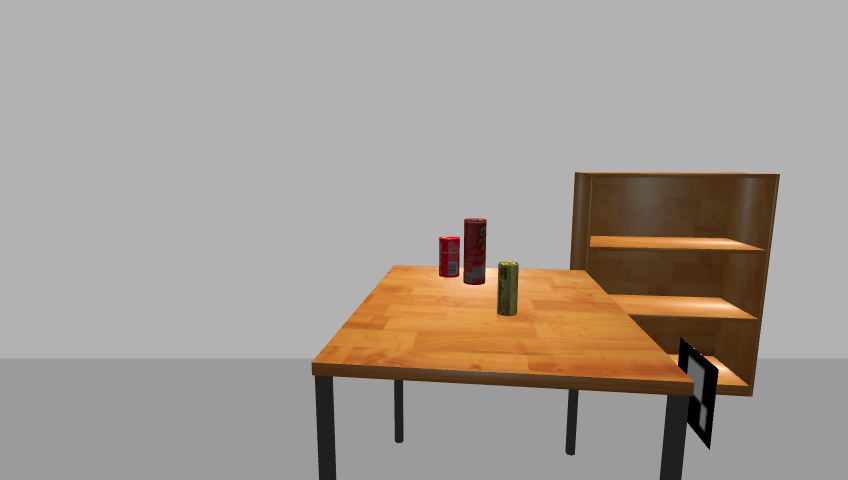aruco marker: (674, 337, 721, 449)
biscuits pack: (497, 261, 520, 318)
bookshelf: (566, 168, 787, 404)
coke can: (438, 235, 462, 280)
dinner table: (306, 263, 702, 480)
pringles can: (462, 218, 489, 287)
